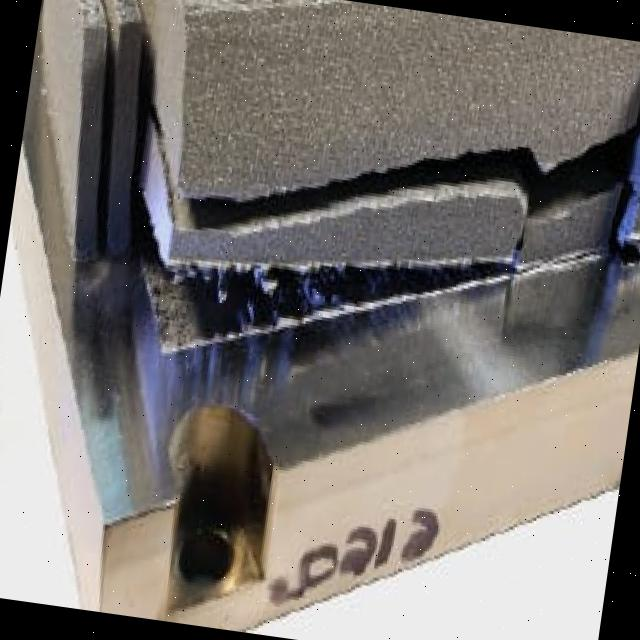cracks: (162, 81, 591, 301)
